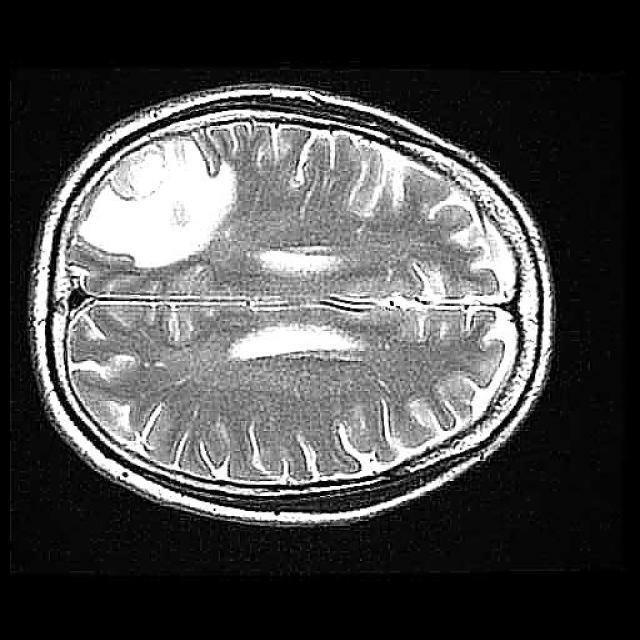tumor: (77, 131, 238, 268)
